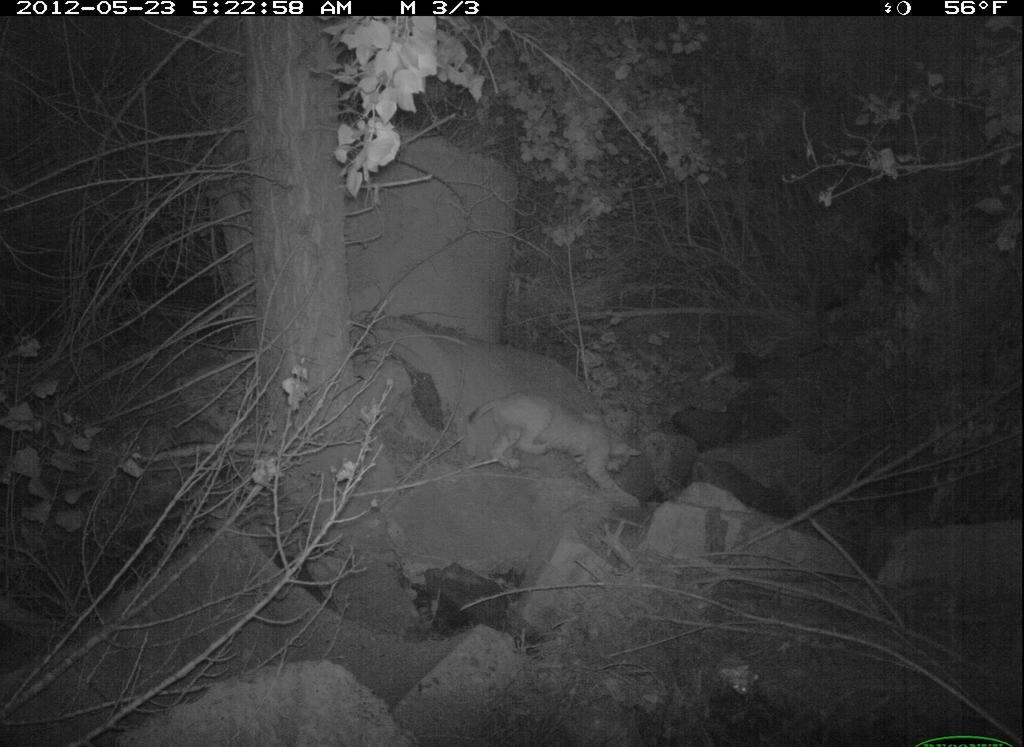bobcat: (446, 379, 666, 524)
